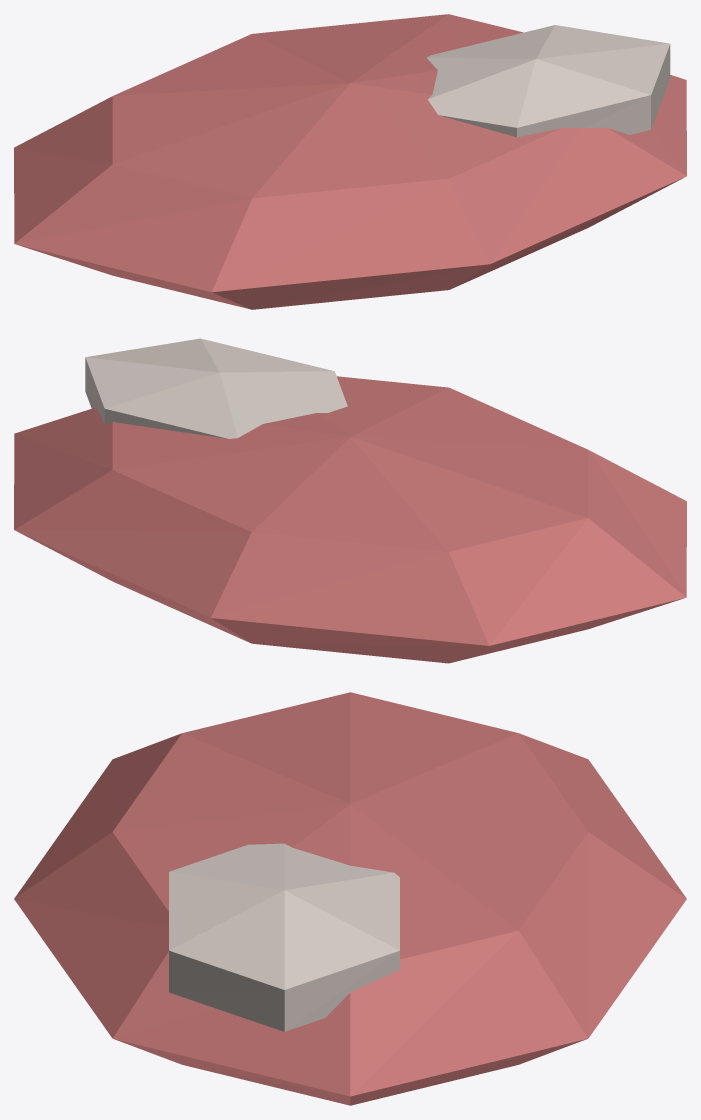
Rendered from steak.glb.
3 renders of one model, top to bottom at view 1: azimuth 30°, elevation 25°; view 2: azimuth 150°, elevation 25°; view 3: azimuth 270°, elevation 25°, orthographic. The views are drawn at different scales.
Parts seen in each view (by area): view 1: steak; view 2: steak; view 3: steak.
Boxes of the visible parts, x1,y1,x2,y2 form: steak: (14, 14, 686, 309); steak: (14, 338, 686, 663); steak: (14, 692, 686, 1105).
Size of the model in its own units: 0.425 by 0.0986 by 0.306.
